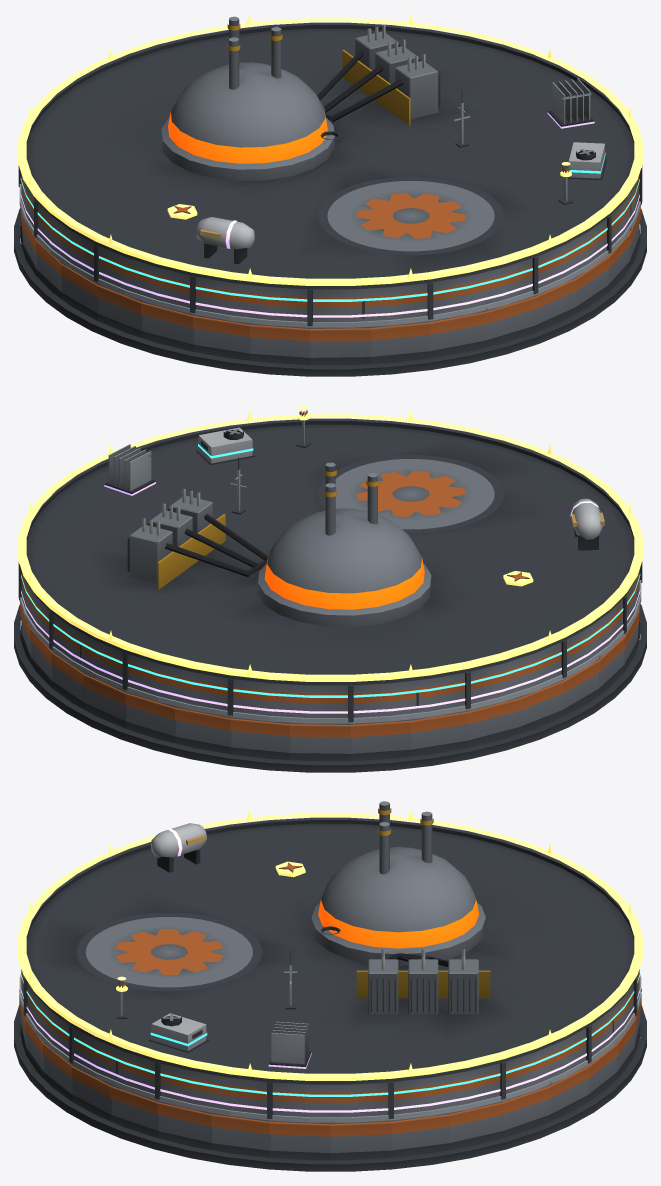
The model's file is titanium_smelter_l_far.glb.
3 renders of one model, top to bottom at view 1: azimuth 30°, elevation 25°; view 2: azimuth 150°, elevation 25°; view 3: azimuth 270°, elevation 25°, orthographic.
Parts seen in each view (by area): view 1: Roof, Base, L5, L4, L2, L3; view 2: Roof, Base, L5, L4, L2, L3; view 3: Roof, Base, L5, L4, L2, L3.
Boxes of the visible parts, x1,y1,x2,y2 form: Roof: (18, 16, 642, 326); Base: (14, 207, 646, 376); L5: (18, 14, 642, 285); L4: (20, 78, 639, 317); L2: (19, 91, 641, 327); L3: (20, 131, 639, 301); Roof: (18, 418, 642, 722); Base: (14, 603, 646, 772); L5: (18, 405, 642, 681); L4: (21, 444, 640, 713); L2: (19, 457, 641, 723); L3: (21, 427, 640, 697); Roof: (21, 801, 639, 1118); Base: (14, 989, 646, 1171); L5: (18, 809, 642, 1080); L4: (20, 823, 640, 1112); L2: (19, 953, 641, 1122); L3: (20, 926, 640, 1096).
Bounding box in the file's own units: 18.96 × 6.63 × 18.96.
